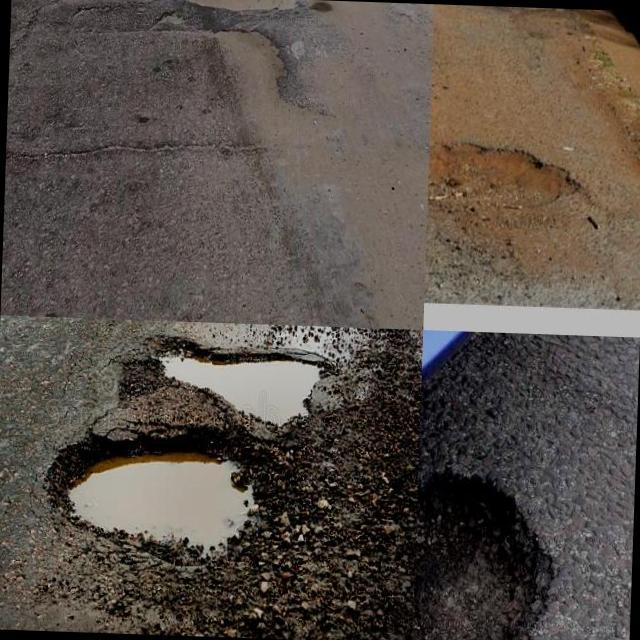Pothole: (412, 473, 549, 640), (64, 453, 255, 553), (427, 143, 580, 207), (163, 357, 304, 425), (185, 0, 303, 15)
